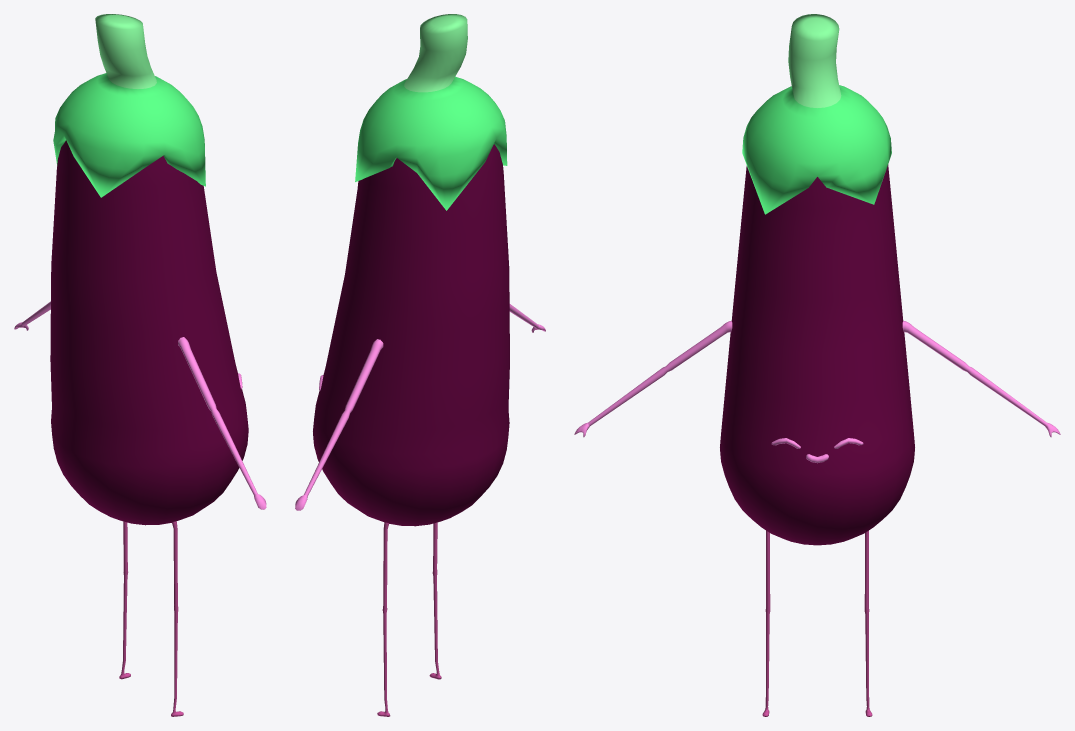
Rendered from scene_DBv6Igif7L.glb.
3 renders of one model, left to right at view 1: azimuth 30°, elevation 25°; view 2: azimuth 150°, elevation 25°; view 3: azimuth 270°, elevation 25°, orthographic.
Visible parts, largest first — view 1: mesh_char_90; view 2: mesh_char_90; view 3: mesh_char_90.
Part boxes in pixels (left/top/right/bottom): mesh_char_90: left=14, top=14, right=266, bottom=716; mesh_char_90: left=295, top=14, right=545, bottom=716; mesh_char_90: left=574, top=14, right=1060, bottom=716.
Size of the model in its own units: 2.06 by 7.77 by 5.08.
Materials: 1 (1 with a texture image).
